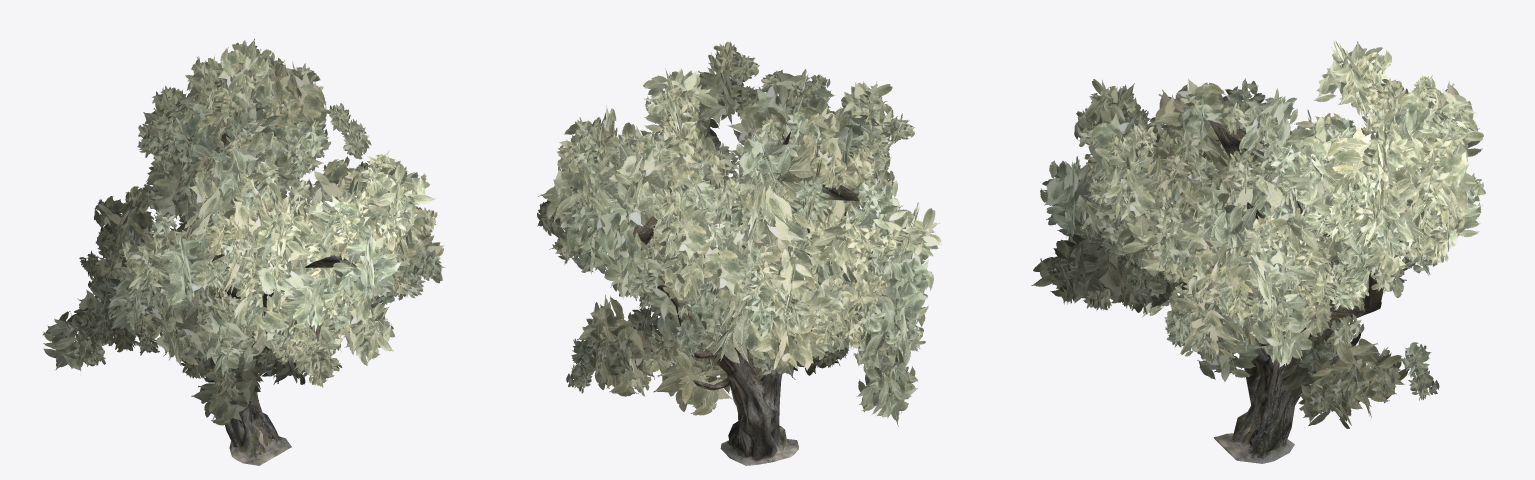
The model's file is arbol_copa_redonda.glb.
The picture shows the model from 3 angles, left to right: view 1: azimuth 30°, elevation 25°; view 2: azimuth 150°, elevation 25°; view 3: azimuth 270°, elevation 25°; orthographic projection. The views are drawn at different scales.
Parts seen in each view (by area): view 1: lejos, cerca; view 2: lejos, cerca; view 3: lejos, cerca.
Boxes of the visible parts, left/top/right/bottom form: lejos: left=43, top=38, right=445, bottom=448; cerca: left=66, top=40, right=441, bottom=465; lejos: left=538, top=51, right=942, bottom=441; cerca: left=537, top=41, right=926, bottom=465; lejos: left=1031, top=39, right=1485, bottom=453; cerca: left=1046, top=55, right=1483, bottom=463.
Size of the model in its own units: 6.01 by 5.56 by 5.7.
2 materials, 2 textured.
